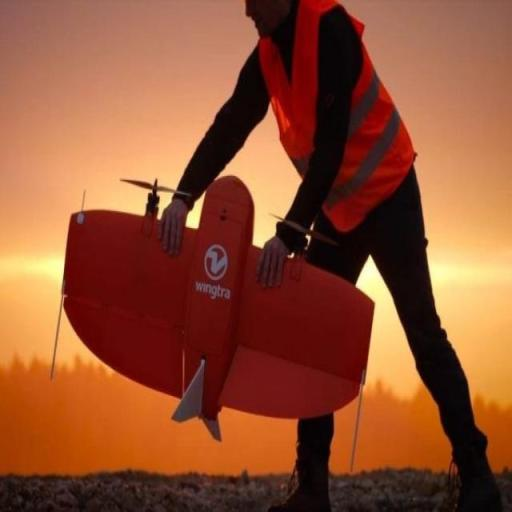uav: (60, 158, 386, 428)
